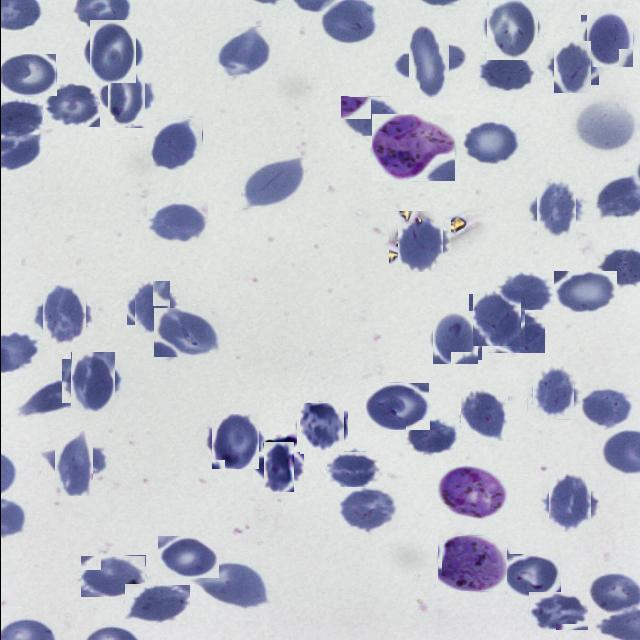difficult: (371, 114, 454, 181), (436, 466, 509, 519)
red blood cell: (195, 562, 269, 609), (400, 34, 458, 92), (483, 0, 540, 57), (153, 308, 219, 357), (240, 158, 304, 208), (84, 23, 140, 78), (365, 382, 429, 430), (392, 214, 446, 268), (460, 120, 521, 166), (216, 26, 272, 76), (553, 271, 616, 315), (338, 486, 398, 532), (80, 555, 145, 597), (208, 416, 260, 468), (583, 12, 635, 64), (66, 356, 118, 408), (47, 438, 99, 490), (470, 292, 522, 344), (124, 584, 190, 624), (38, 288, 88, 340), (152, 118, 202, 170), (146, 202, 207, 244), (157, 536, 218, 578), (502, 554, 560, 598), (544, 478, 594, 529), (458, 389, 508, 440), (485, 310, 544, 353), (42, 83, 99, 127), (101, 72, 151, 122), (531, 184, 581, 234), (340, 96, 402, 136), (429, 313, 479, 362), (0, 53, 56, 96), (528, 591, 588, 630), (529, 369, 577, 417), (298, 404, 346, 452), (499, 271, 552, 314), (578, 388, 632, 428), (478, 54, 536, 91), (549, 44, 594, 89), (326, 451, 380, 487), (405, 420, 459, 456), (130, 285, 174, 329), (258, 447, 298, 487)
trophozoite: (437, 535, 507, 591)
